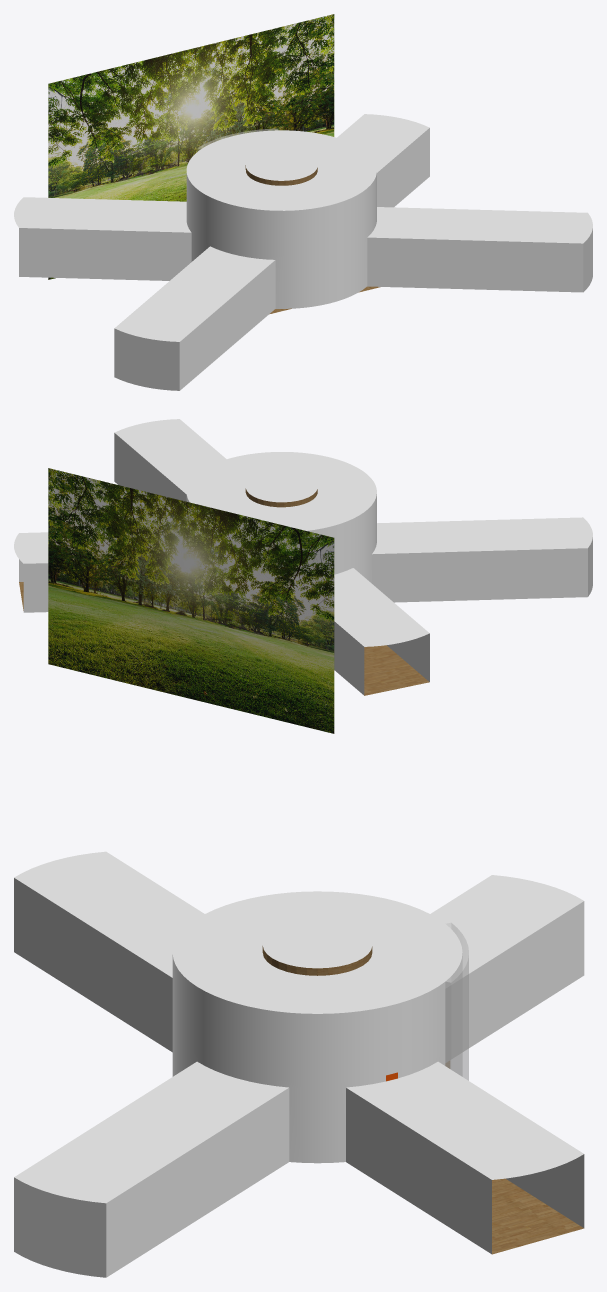
File: hall.glb
3 renders of one model, top to bottom at view 1: azimuth 30°, elevation 25°; view 2: azimuth 150°, elevation 25°; view 3: azimuth 270°, elevation 25°, orthographic. The views are drawn at different scales.
Parts seen in each view (by area): view 1: Cylinder, Plane, Circle.001; view 2: Plane, Cylinder, Circle.001; view 3: Cylinder, Circle.001, Cylinder.001.
Boxes of the visible parts, left/top/right/bottom form: Cylinder: left=14, top=114, right=592, bottom=390; Plane: left=48, top=14, right=334, bottom=279; Circle.001: left=191, top=132, right=368, bottom=208; Plane: left=48, top=468, right=334, bottom=733; Cylinder: left=14, top=419, right=592, bottom=695; Circle.001: left=191, top=454, right=371, bottom=529; Cylinder: left=14, top=851, right=584, bottom=1277; Circle.001: left=179, top=894, right=455, bottom=1010; Cylinder.001: left=445, top=923, right=468, bottom=1080.
Size of the model in its own units: 50.52 by 20 by 35.15.
Materials: 9 (2 with a texture image).
